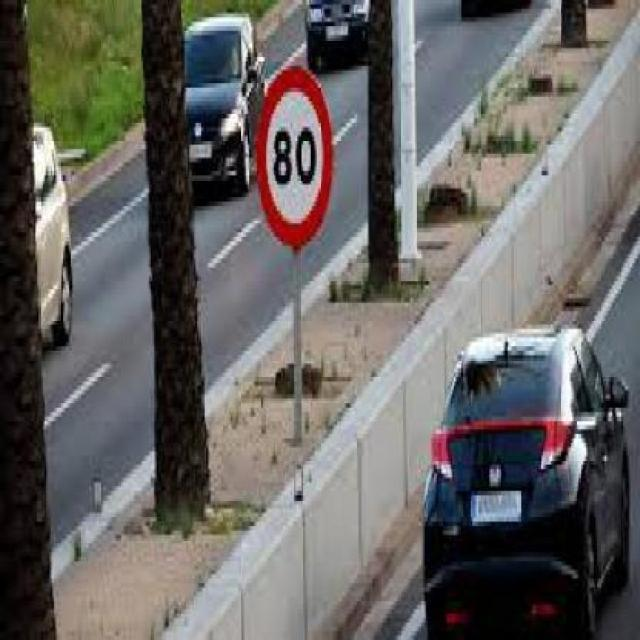forb_speed_over_80: (253, 68, 333, 247)
